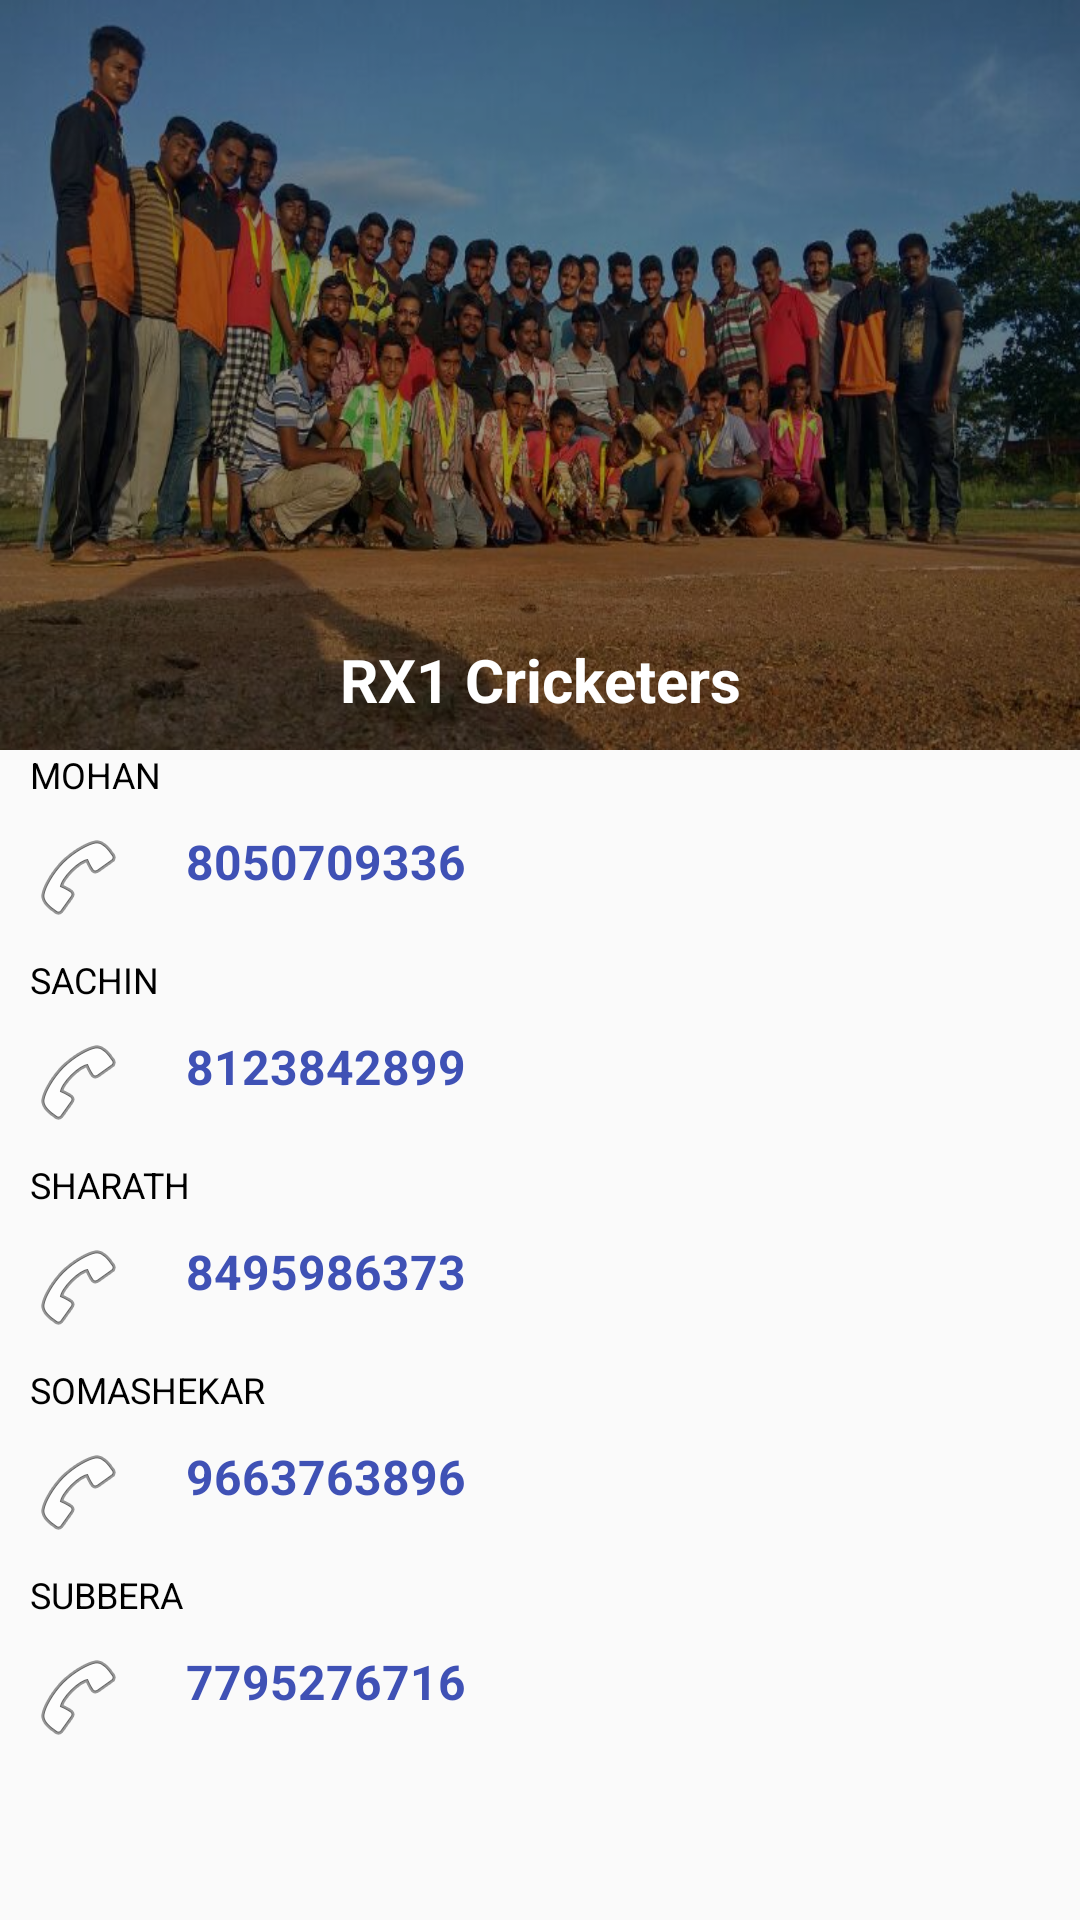

Point at icon controls on the screen. Image size 1080 x 1920, points as [x,y].
call: [78,877], [78,1082], [78,1287], [78,1492], [78,1697]
